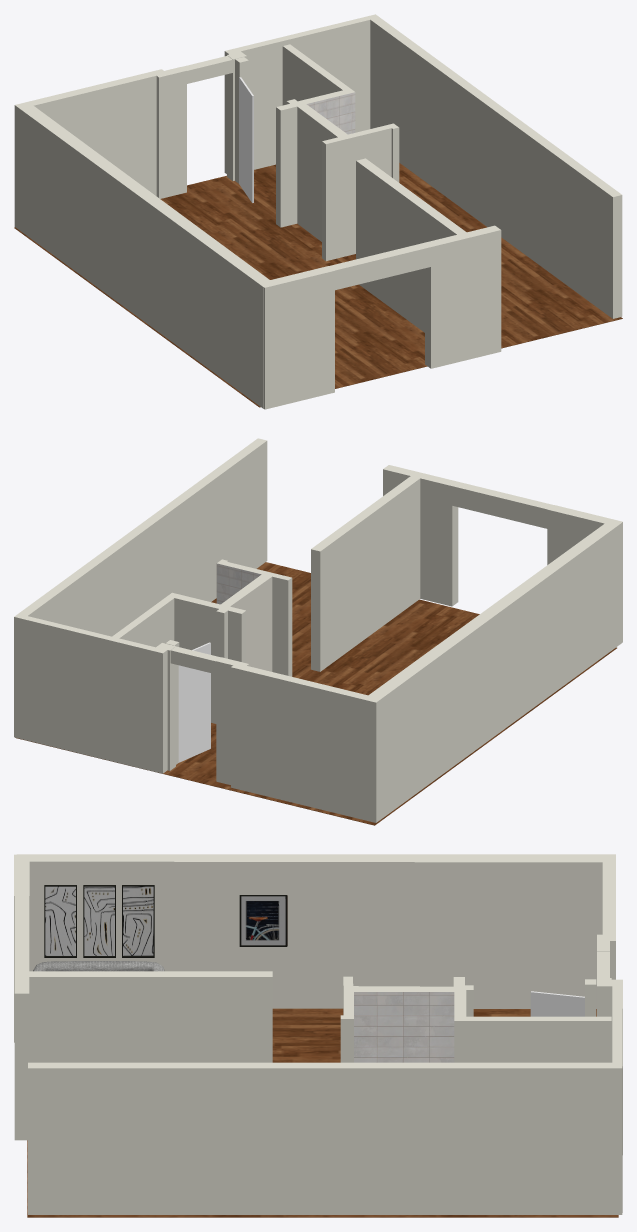
File: WALLS GLB VECTARY.glb
3 views of the same model, one above another, from view 1: azimuth 30°, elevation 25°; view 2: azimuth 150°, elevation 25°; view 3: azimuth 270°, elevation 25° (orthographic). The views are drawn at different scales.
Parts seen in each view (by area): view 1: Line016, Line017, Box001, Line009, Box147, Box146, Box144, Box150, Box154, THE CHARLES TEST1, Box152, Box201; view 2: Line016, Line017, Box144, Box001, Line009, Box147, Box154, Box150, Box146, THE CHARLES TEST1, Box152; view 3: Line017, Line016, Box144, Line009, THE CHARLES TEST1, Box001, Box147, Box040, Box042, Box044, Buffer Object, Box154 (+2 smaller).
Boxes of the visible parts, <box> form: Line016: <box>14,67,276,408</box>; Line017: <box>224,14,622,318</box>; Box001: <box>14,163,622,407</box>; Line009: <box>276,44,399,261</box>; Box147: <box>425,225,501,368</box>; Box146: <box>263,266,334,409</box>; Box144: <box>356,158,467,332</box>; Box150: <box>328,242,430,290</box>; Box154: <box>239,77,253,202</box>; THE CHARLES TEST1: <box>306,92,355,134</box>; Box152: <box>182,55,233,83</box>; Box201: <box>235,57,248,183</box>; Line016: <box>216,519,622,822</box>; Line017: <box>14,438,267,773</box>; Box144: <box>311,475,420,671</box>; Box001: <box>15,562,616,825</box>; Line009: <box>112,559,292,723</box>; Box147: <box>383,465,458,606</box>; Box154: <box>178,642,210,762</box>; Box150: <box>452,481,553,528</box>; Box146: <box>547,505,622,642</box>; THE CHARLES TEST1: <box>216,563,261,604</box>; Box152: <box>170,646,220,674</box>; Line017: <box>28,978,622,1214</box>; Line016: <box>16,854,615,1008</box>; Box144: <box>26,971,272,1062</box>; Line009: <box>340,976,611,1062</box>; THE CHARLES TEST1: <box>241,896,454,1062</box>; Box001: <box>27,1008,618,1217</box>; Box147: <box>14,952,29,1140</box>; Box040: <box>84,886,114,955</box>; Box042: <box>45,886,75,955</box>; Box044: <box>123,886,153,955</box>; Buffer Object: <box>33,961,164,971</box>; Box154: <box>530,991,584,1016</box>.
Bounding box in the file's own units: 1.02 × 0.3323 × 1.23.
Materials: 22 (16 with a texture image).
